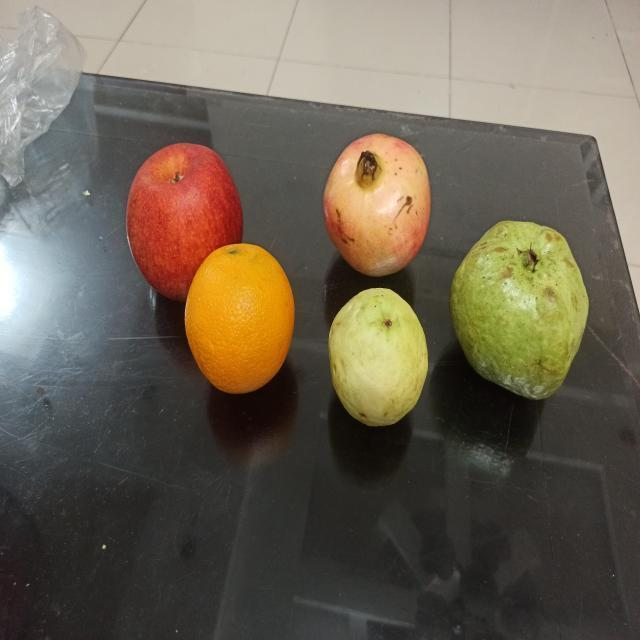apple: (126, 142, 244, 301)
